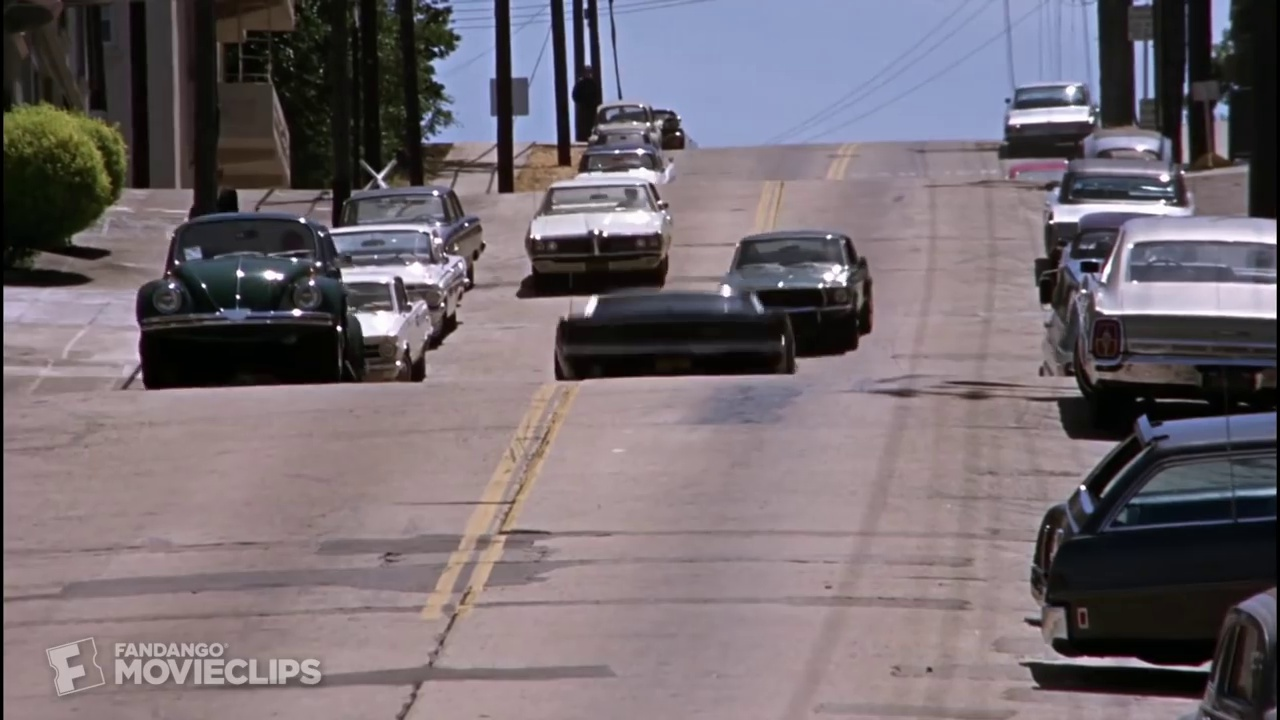car: (1017, 398, 1280, 677), (1045, 208, 1280, 422), (124, 207, 363, 392), (541, 282, 809, 388), (281, 219, 487, 343), (1018, 153, 1206, 273), (717, 223, 887, 355), (312, 179, 497, 299), (278, 264, 447, 386), (524, 174, 678, 295), (1041, 120, 1197, 194), (986, 73, 1102, 156), (560, 144, 689, 205), (577, 99, 675, 167), (623, 99, 697, 156)
person: (199, 153, 250, 244), (563, 58, 609, 153)
